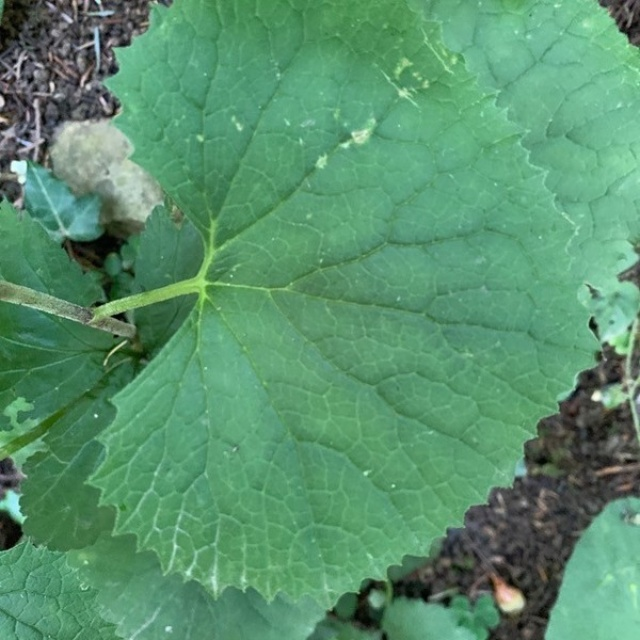obstacle: (46, 28, 577, 570)
